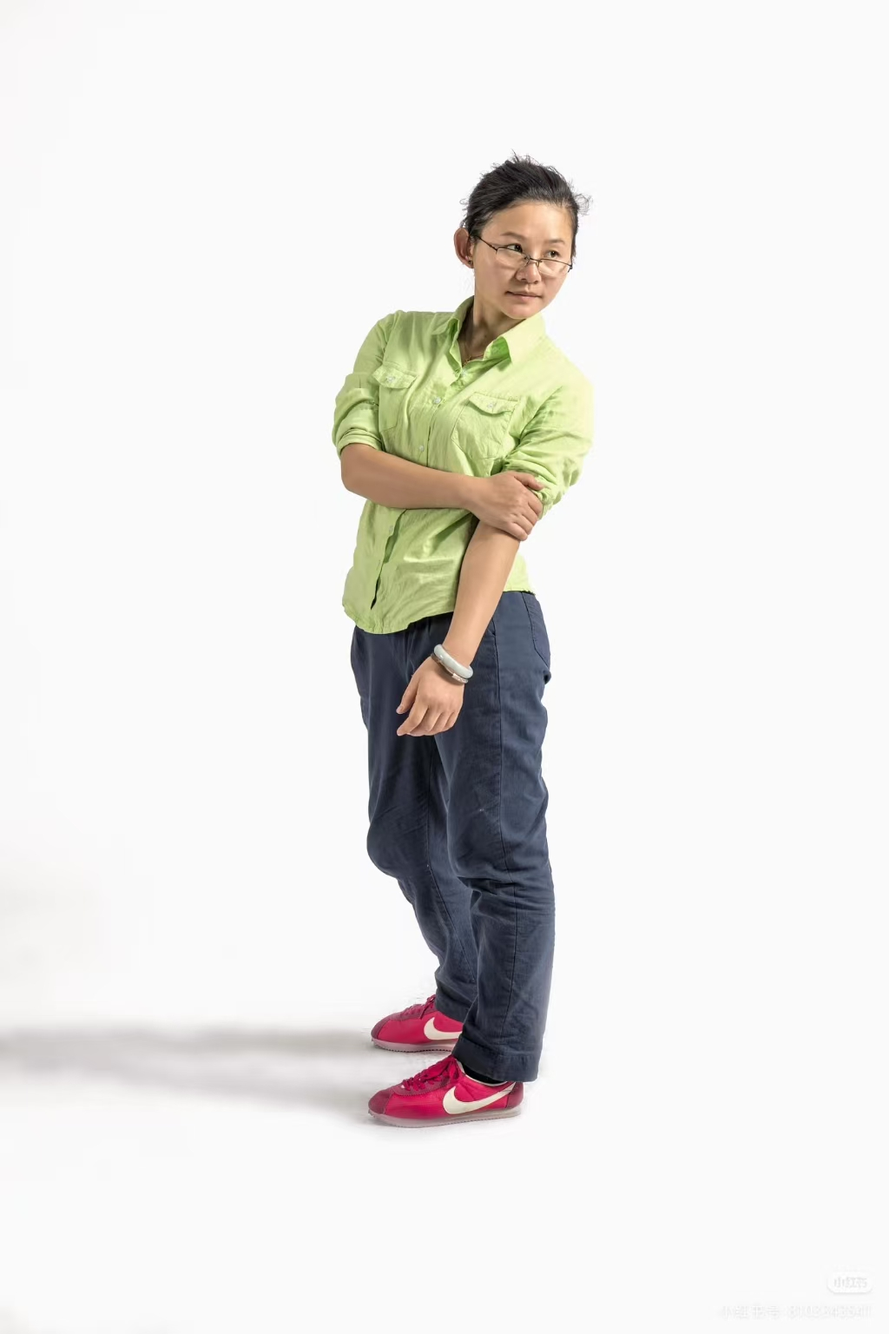up: (286, 133, 622, 1159)
